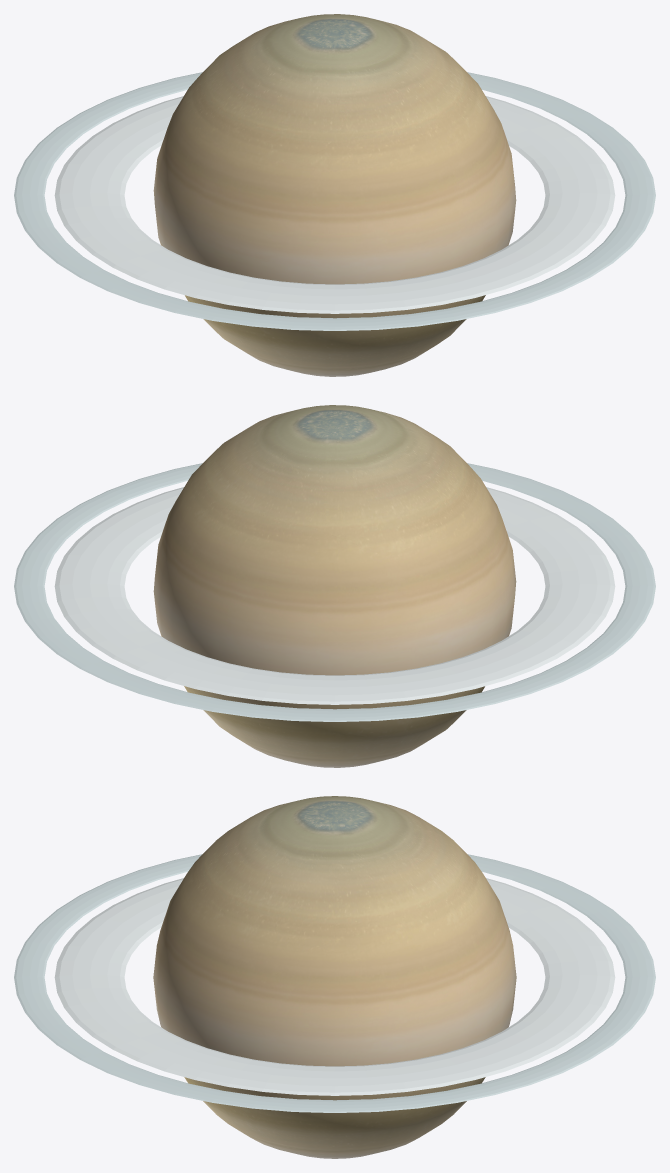
File: Saturno.gltf
3 renders of one model, top to bottom at view 1: azimuth 30°, elevation 25°; view 2: azimuth 150°, elevation 25°; view 3: azimuth 270°, elevation 25°, orthographic.
Parts seen in each view (by area): view 1: Sphere, Torus, Torus.001; view 2: Sphere, Torus, Torus.001; view 3: Sphere, Torus, Torus.001.
Part boxes in pixels (x1,y1,x2,y2): Sphere: (153, 14, 516, 376); Torus: (54, 96, 615, 313); Torus.001: (14, 72, 655, 330); Sphere: (153, 405, 516, 767); Torus: (54, 487, 615, 704); Torus.001: (14, 463, 655, 721); Sphere: (153, 796, 516, 1158); Torus: (54, 878, 615, 1095); Torus.001: (14, 854, 655, 1112).
Size of the model in its own units: 3.53 by 2 by 3.53.
3 materials, 3 textured.
